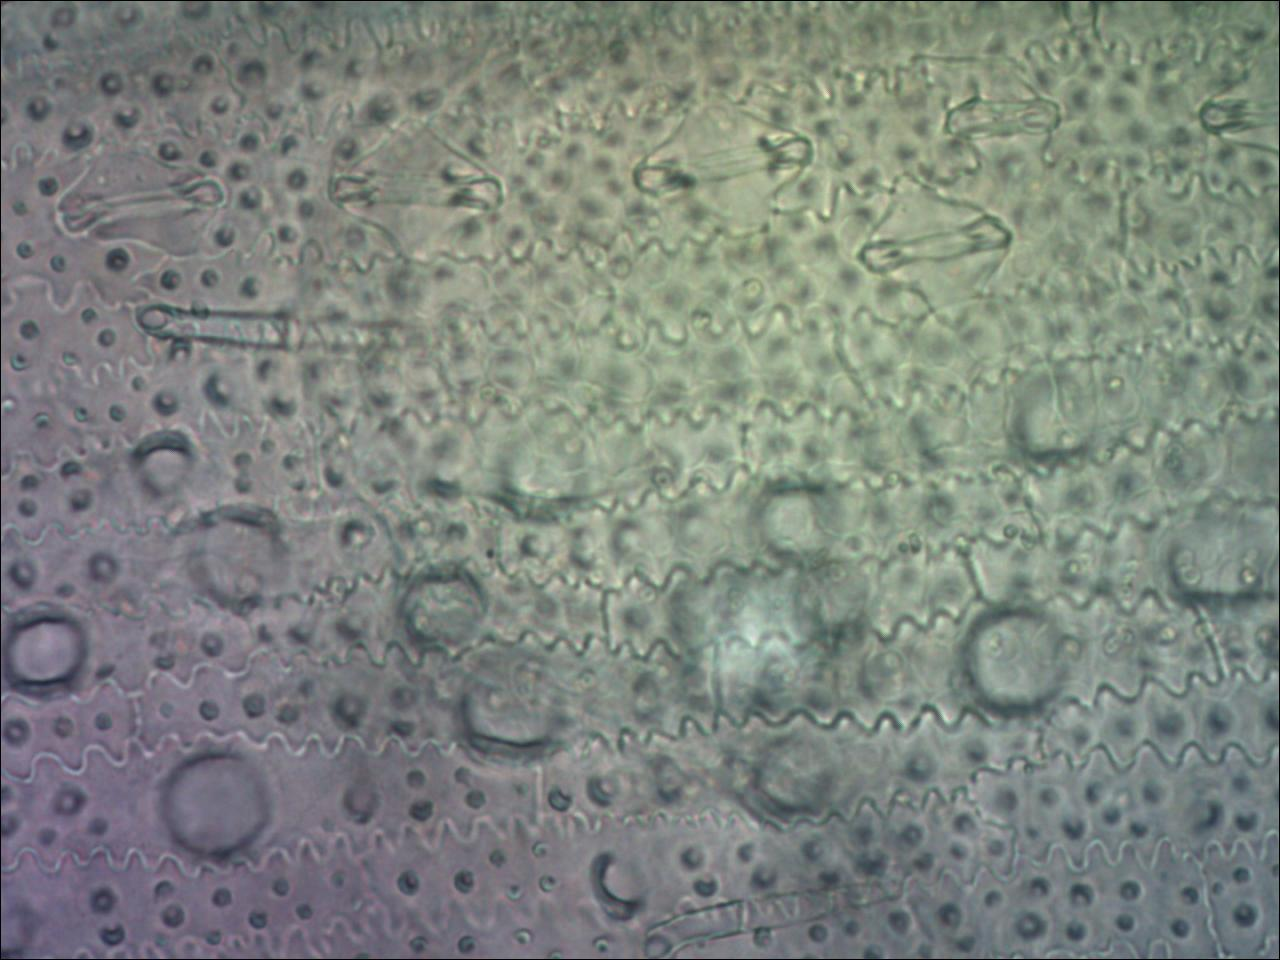stoma: (329, 122, 509, 257), (624, 102, 818, 223), (857, 183, 1013, 322), (55, 148, 225, 259), (933, 66, 1068, 166), (1195, 64, 1280, 151)
